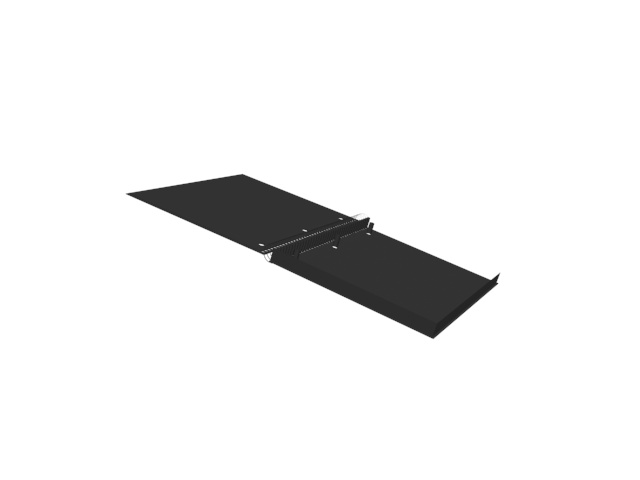paper_notebook: (121, 169, 504, 344)
